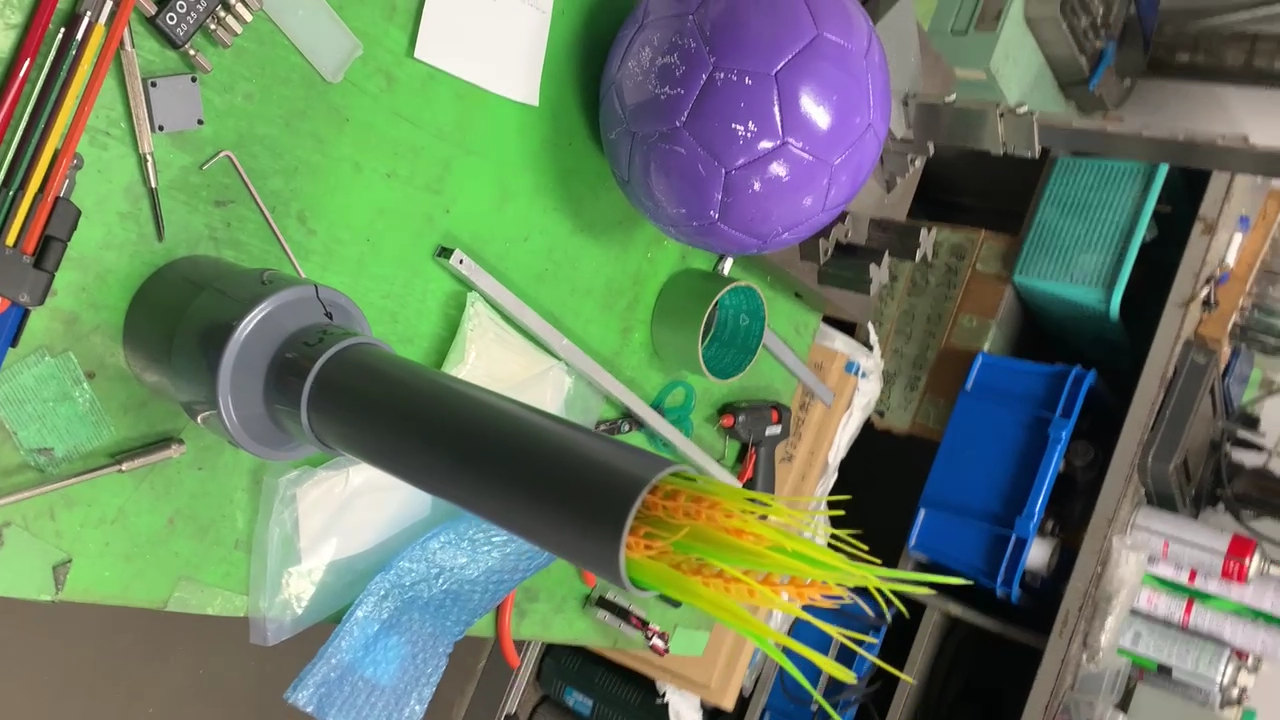purple: (599, 0, 885, 251)
